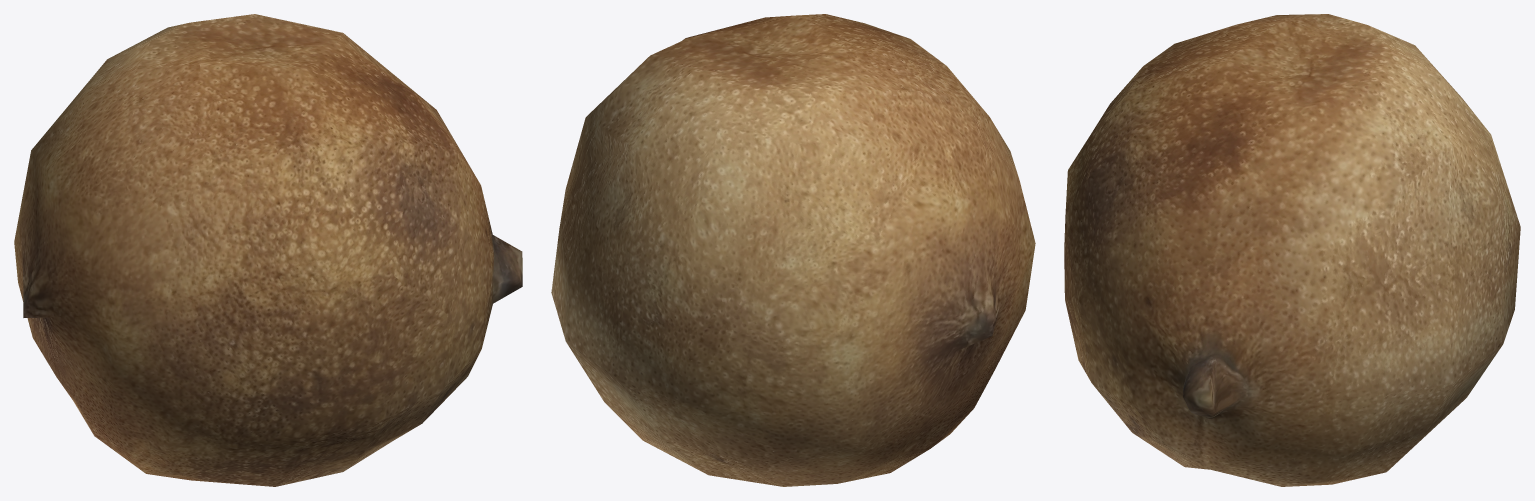
Rendered from A55_Kumquat_low.fbx.
3 renders of one model, left to right at view 1: azimuth 30°, elevation 25°; view 2: azimuth 150°, elevation 25°; view 3: azimuth 270°, elevation 25°, orthographic. The views are drawn at different scales.
Visible parts, largest first — view 1: A55_Kumquat_low; view 2: A55_Kumquat_low; view 3: A55_Kumquat_low.
Boxes of the visible parts, bbox=[...] form: A55_Kumquat_low: bbox=[14, 14, 522, 486]; A55_Kumquat_low: bbox=[551, 14, 1035, 486]; A55_Kumquat_low: bbox=[1064, 14, 1520, 486].
Bounding box in the file's own units: 4.03 × 3.58 × 3.53.
Materials: 1 (1 with a texture image).
